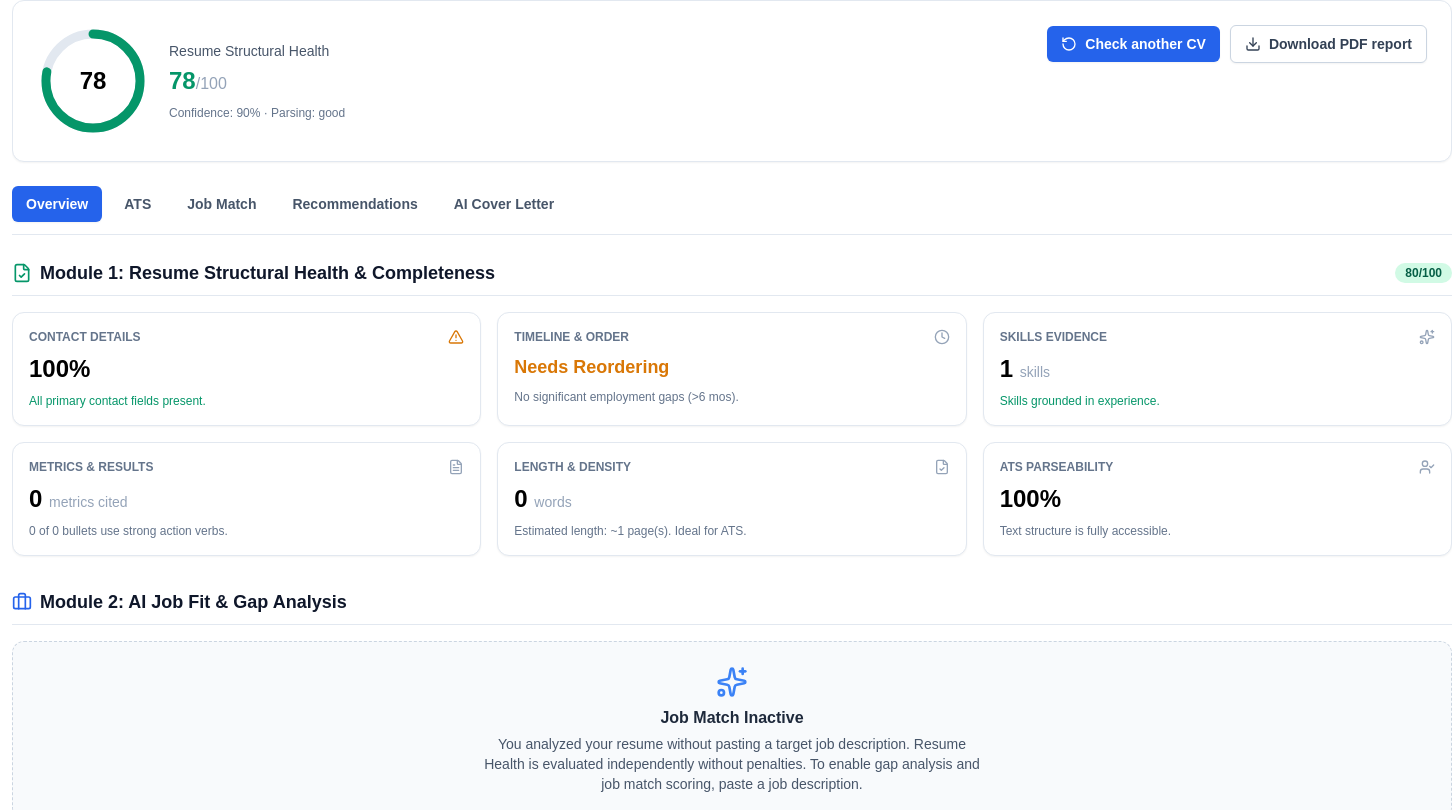
results dashboard › disables the job-tailored cover letter button when no job description is supplied and shows explanation
The image size is (1452, 810).
Click the tab "AI Cover Letter": (504, 204) 440,186 -> 568,222
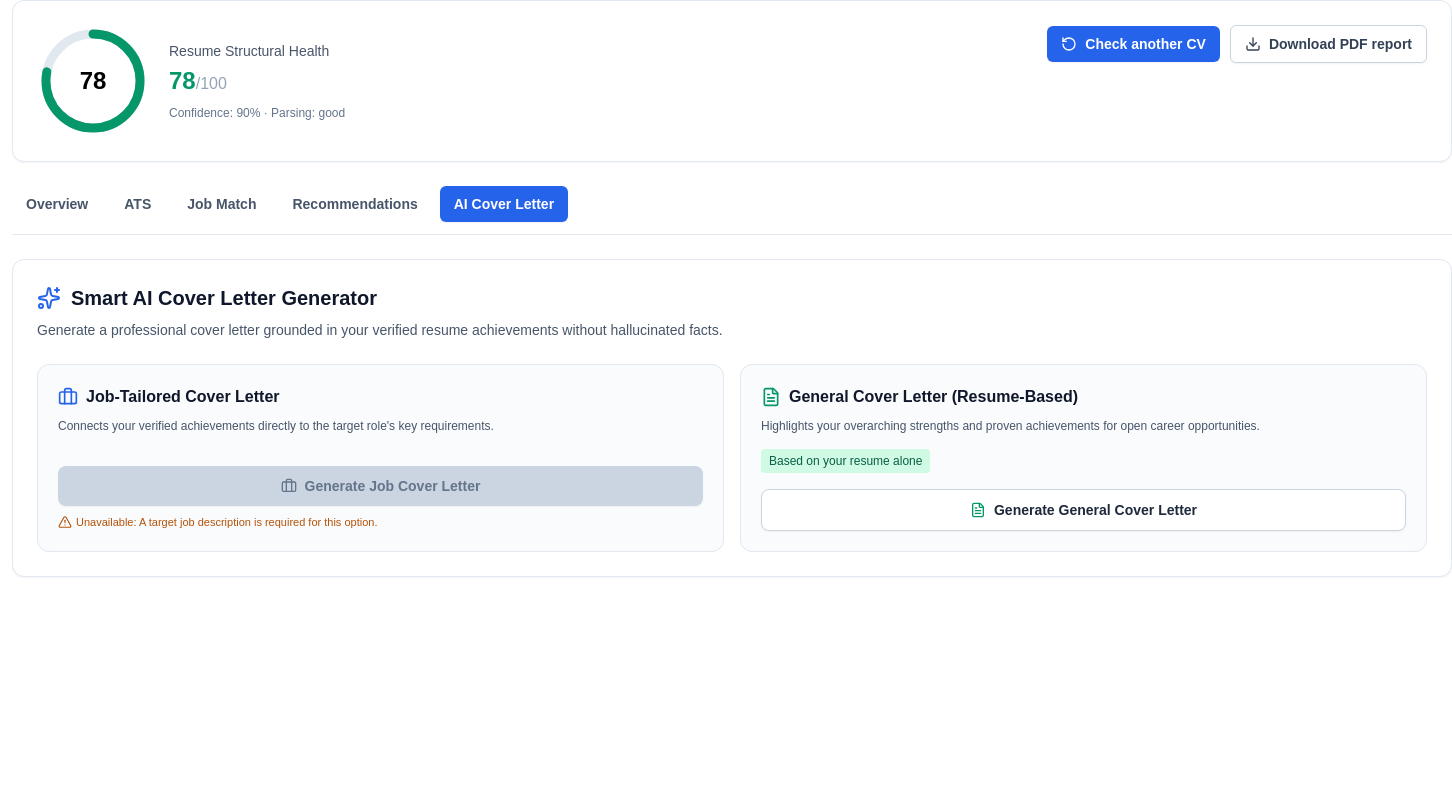
Expected: the button "Generate Job Cover Letter" is disabled, 58,466 -> 703,506
Expected: the button "Generate General Cover Letter" is enabled, 761,488 -> 1406,530
Expected: the text "A target job description is required" is shown, 76,516 -> 378,528
